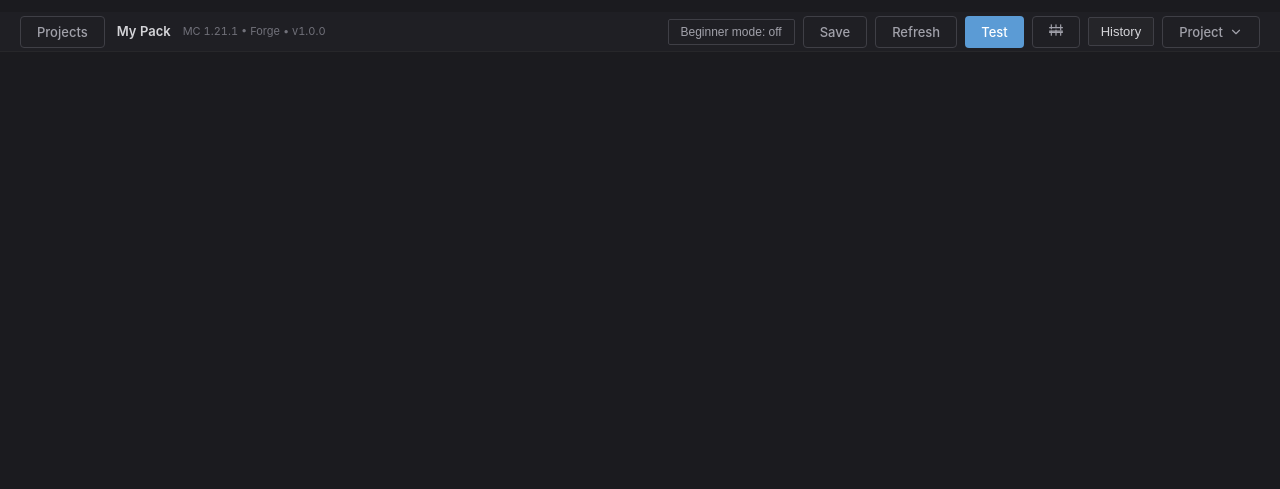
Test: TopBar › groups Refresh, Force Re-index, Close Pack, Deploy Companion, Export, and Delete under the Project menu
Step 1. Click the button "Project" → (1211, 32), box [1162,16,1260,48]
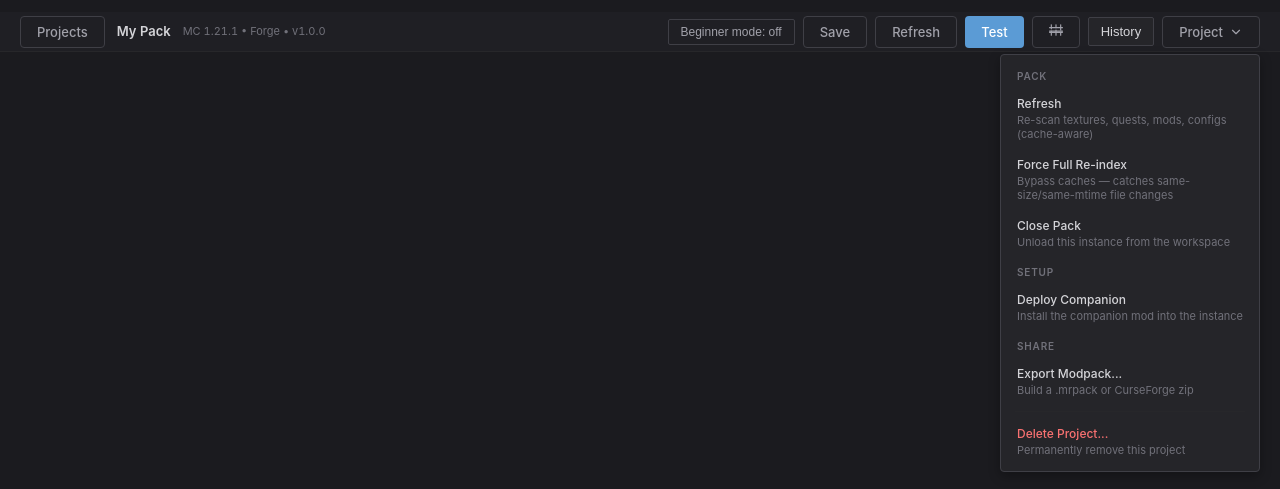
Result: the menu item "Refresh" is shown at [1007,88,1253,148]
Result: the menu item "Force Full Re-index" is shown at [1007,148,1253,210]
Result: the menu item "Close Pack Unload this instance from the workspace" is shown at [1007,210,1253,256]
